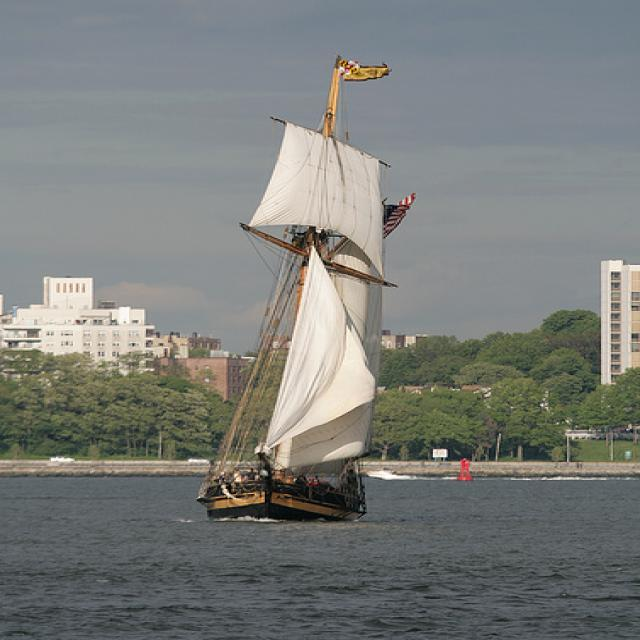Ship: (207, 64, 404, 521)
